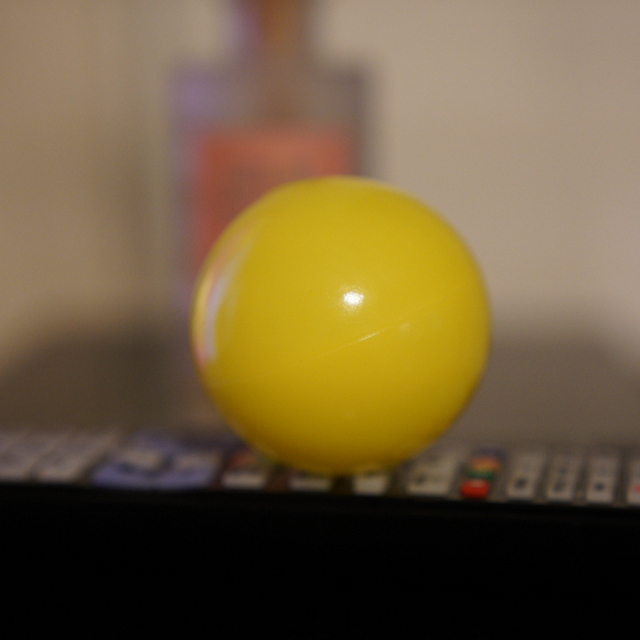Ball: (188, 175, 490, 473)
